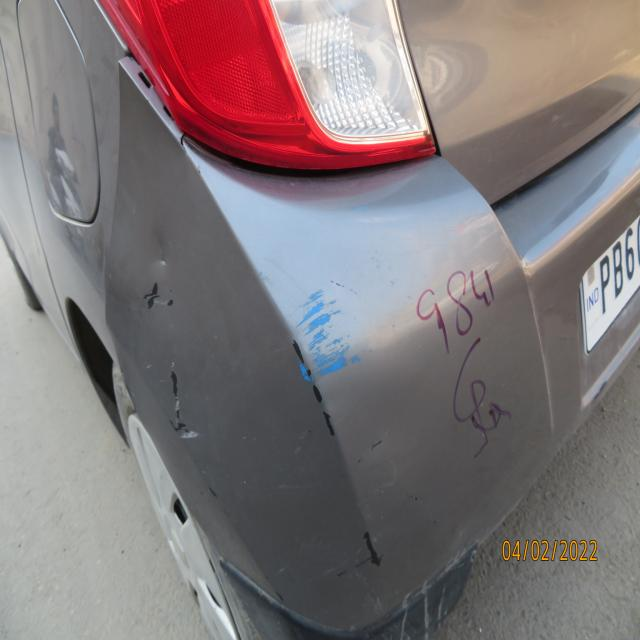damage: (280, 299, 401, 583), (144, 266, 205, 442)
